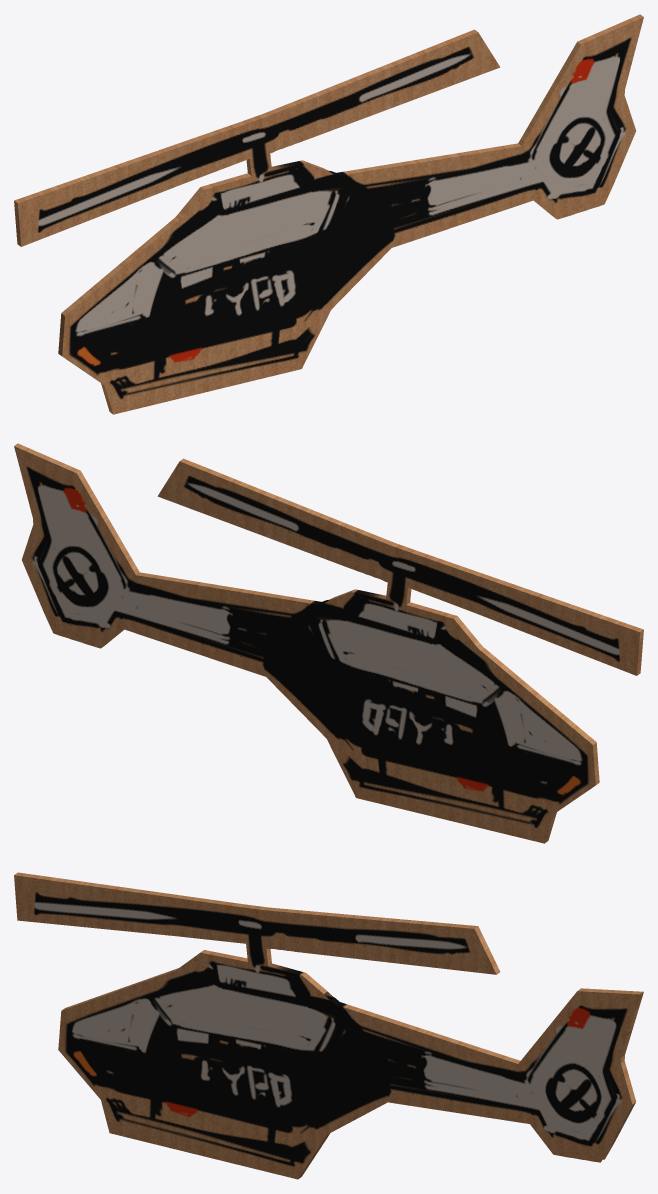
File: helicopter.FBX
3 renders of one model, top to bottom at view 1: azimuth 30°, elevation 25°; view 2: azimuth 150°, elevation 25°; view 3: azimuth 330°, elevation 25°, orthographic.
Visible parts, largest first — view 1: helicopter; view 2: helicopter; view 3: helicopter.
Part boxes in pixels (x1=…): helicopter: x1=14, y1=14, x2=643, y2=414; helicopter: x1=14, y1=443, x2=643, y2=843; helicopter: x1=14, y1=872, x2=643, y2=1179.
Bounding box in the file's own units: 659 × 296 × 7.
1 material, 1 textured.
